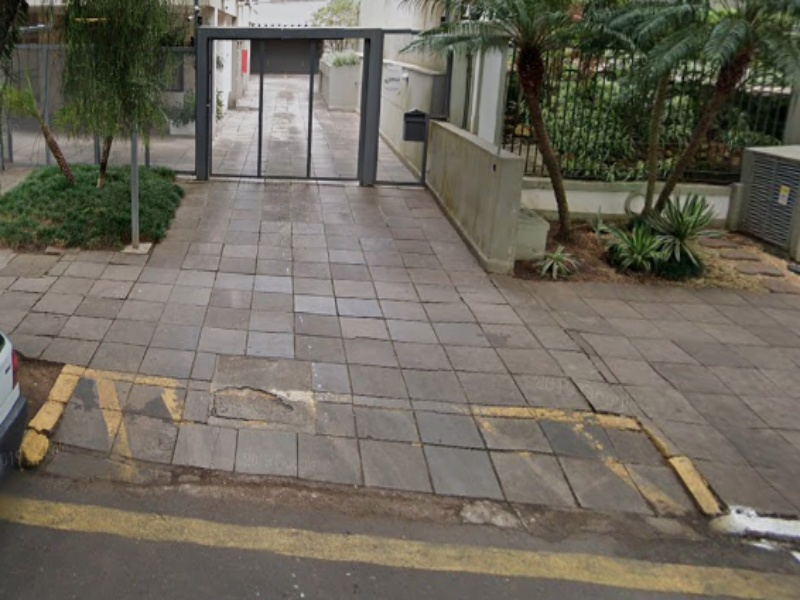v28: (60, 371, 715, 600)
